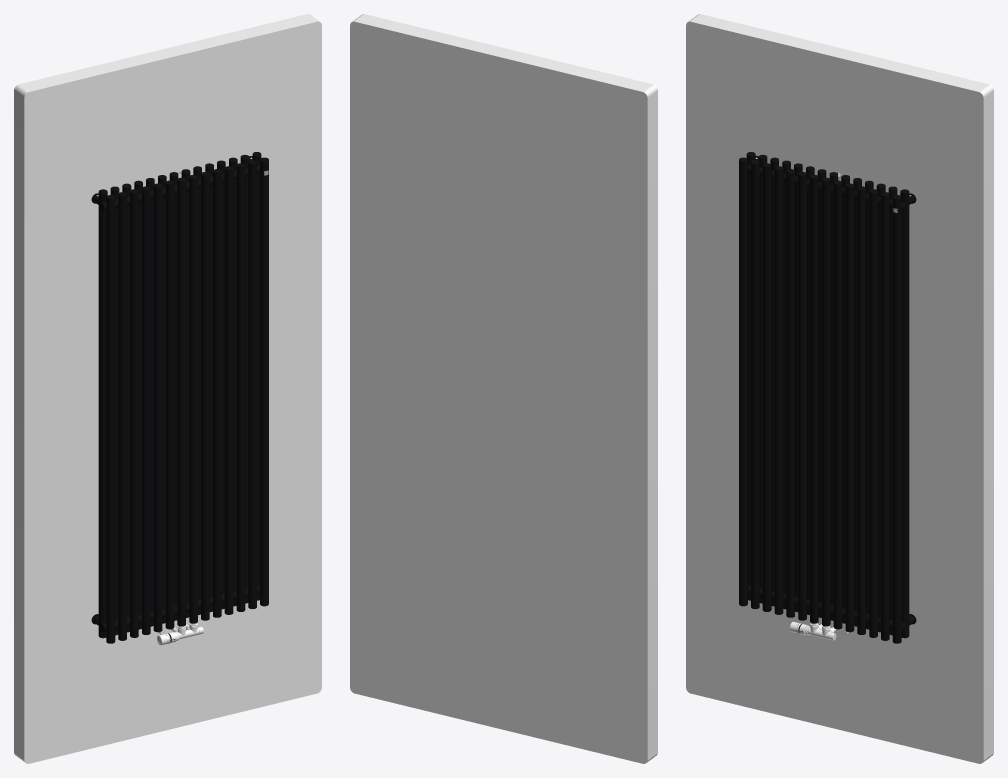
File: obj_tune_vwd_radiator_67c98b.glb
The picture shows the model from 3 angles, left to right: view 1: azimuth 30°, elevation 25°; view 2: azimuth 150°, elevation 25°; view 3: azimuth 330°, elevation 25°; orthographic projection.
Visible parts, largest first — view 1: obj_tune_vwd_radiator_67c98b; view 2: obj_tune_vwd_radiator_67c98b; view 3: obj_tune_vwd_radiator_67c98b.
Part boxes in pixels (<box>): obj_tune_vwd_radiator_67c98b: <box>14,14,321,763</box>; obj_tune_vwd_radiator_67c98b: <box>350,14,657,763</box>; obj_tune_vwd_radiator_67c98b: <box>686,14,993,763</box>.
Size of the model in its own units: 0.4634 by 1 by 0.0743.
10 materials, 10 textured.
